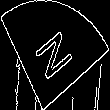N_SW: (31, 24, 79, 86)
